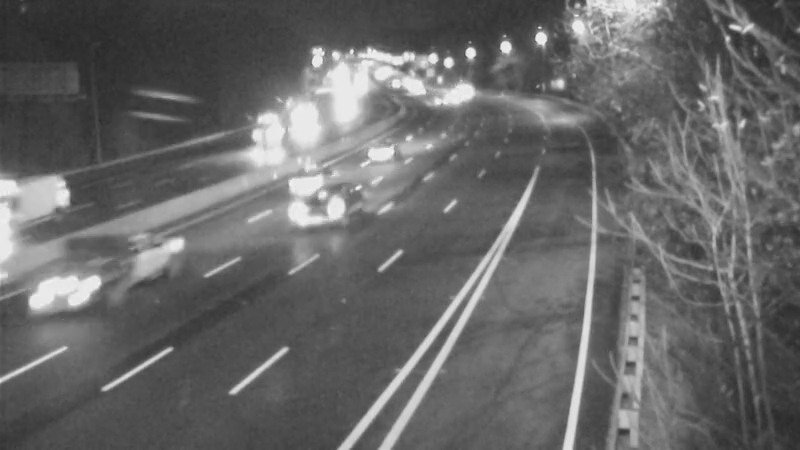vehicle: (262, 139, 342, 219), (284, 169, 364, 249), (39, 230, 119, 310), (1, 153, 78, 233), (436, 66, 486, 116), (423, 74, 473, 124), (364, 123, 414, 173), (240, 108, 290, 158), (280, 95, 330, 145)
